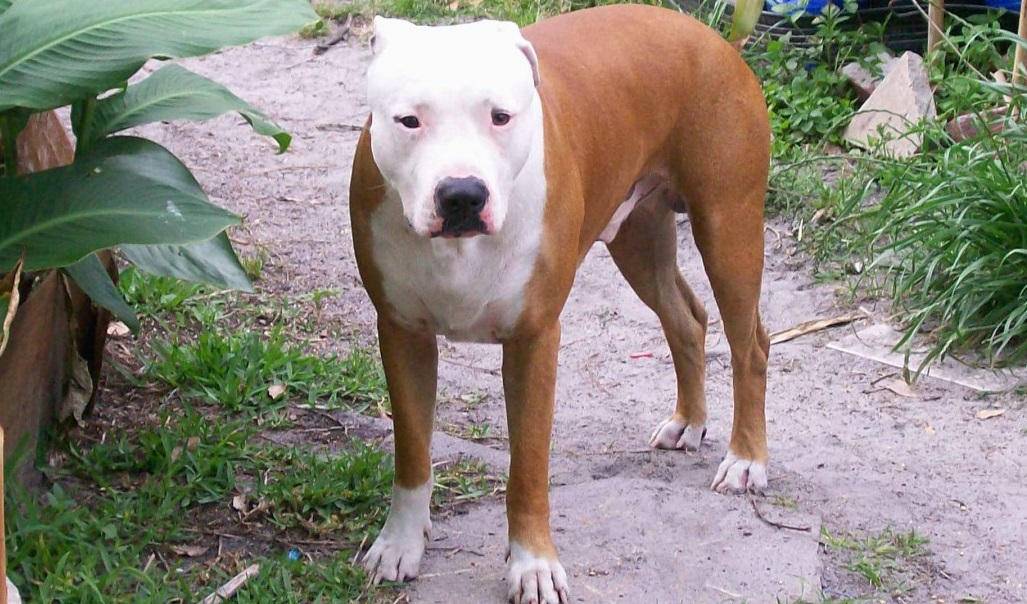am_pit_bull_terrier: (346, 3, 776, 600)
